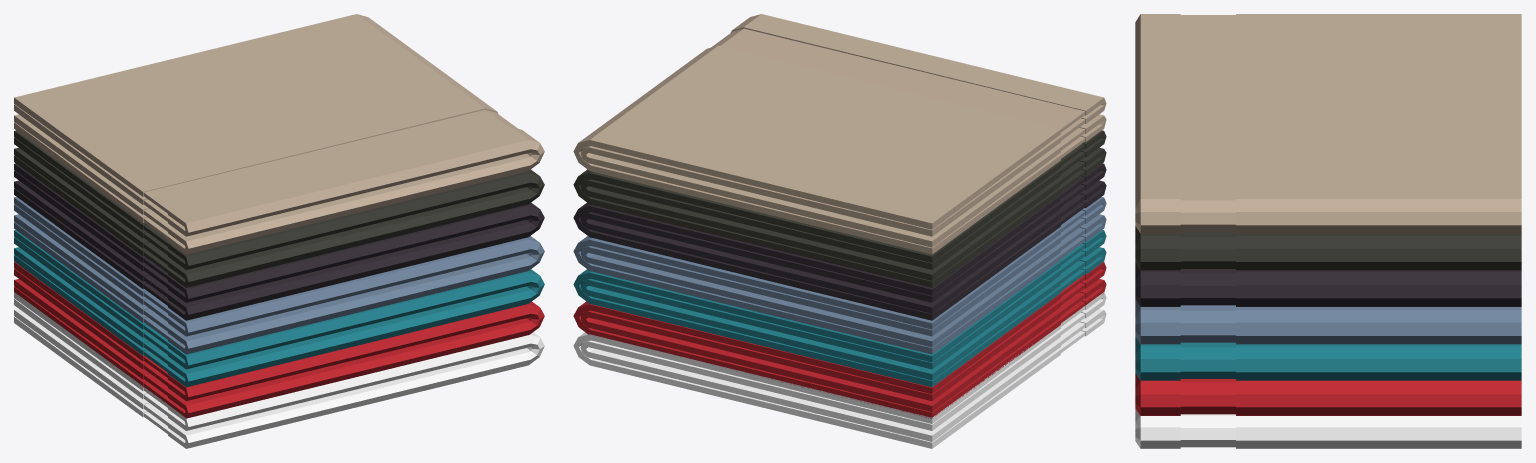
3 views of the same model, side by side, from view 1: azimuth 30°, elevation 25°; view 2: azimuth 150°, elevation 25°; view 3: azimuth 270°, elevation 25° (orthographic). The views are drawn at different scales.
Visible parts, largest first — view 1: Node; view 2: Node; view 3: Node.
Part boxes in pixels (x1,y1,x2,y2): Node: (14, 14, 544, 448); Node: (573, 14, 1106, 448); Node: (1135, 14, 1521, 448).
Bounding box in the file's own units: 1 × 0.6024 × 0.8444.
